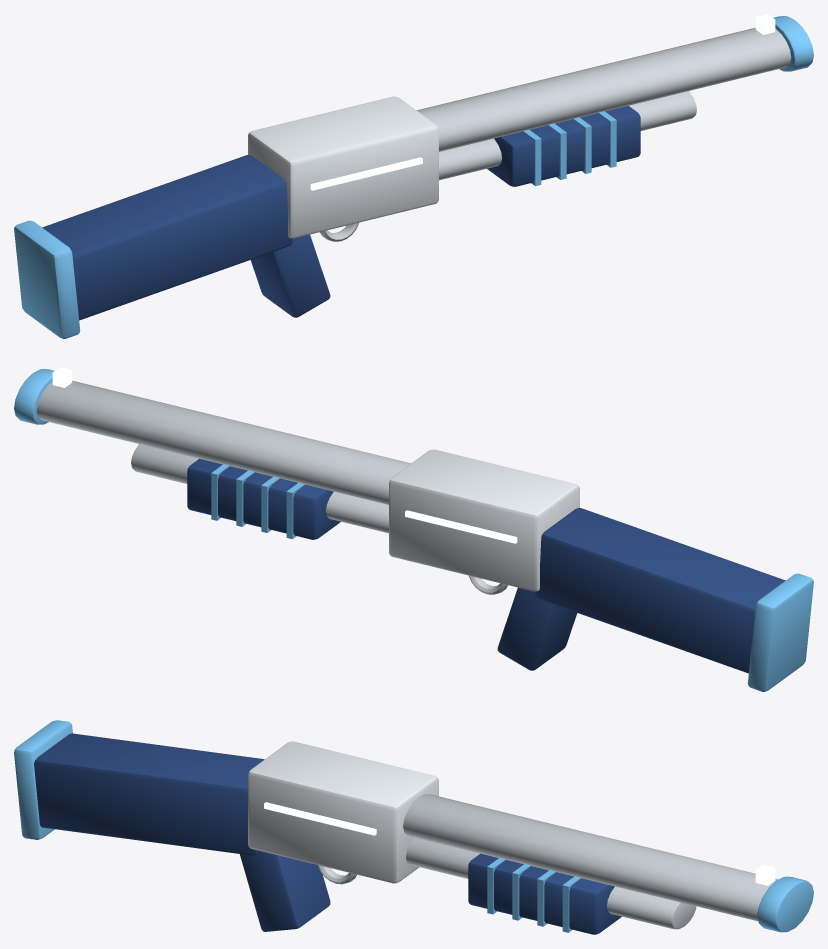
File: SGP_Shotgun_Frost.glb
3 views of the same model, one above another, from view 1: azimuth 30°, elevation 25°; view 2: azimuth 150°, elevation 25°; view 3: azimuth 330°, elevation 25° (orthographic).
Parts seen in each view (by area): view 1: SGP_Shotgun_Frost; view 2: SGP_Shotgun_Frost; view 3: SGP_Shotgun_Frost.
Part boxes in pixels (<box>): SGP_Shotgun_Frost: <box>14,14,813,338</box>; SGP_Shotgun_Frost: <box>14,367,813,691</box>; SGP_Shotgun_Frost: <box>14,720,813,934</box>.
Size of the model in its own units: 0.759 by 0.1617 by 0.0832.
